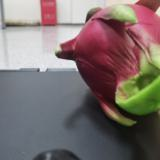pitaya: (60, 1, 160, 126)
